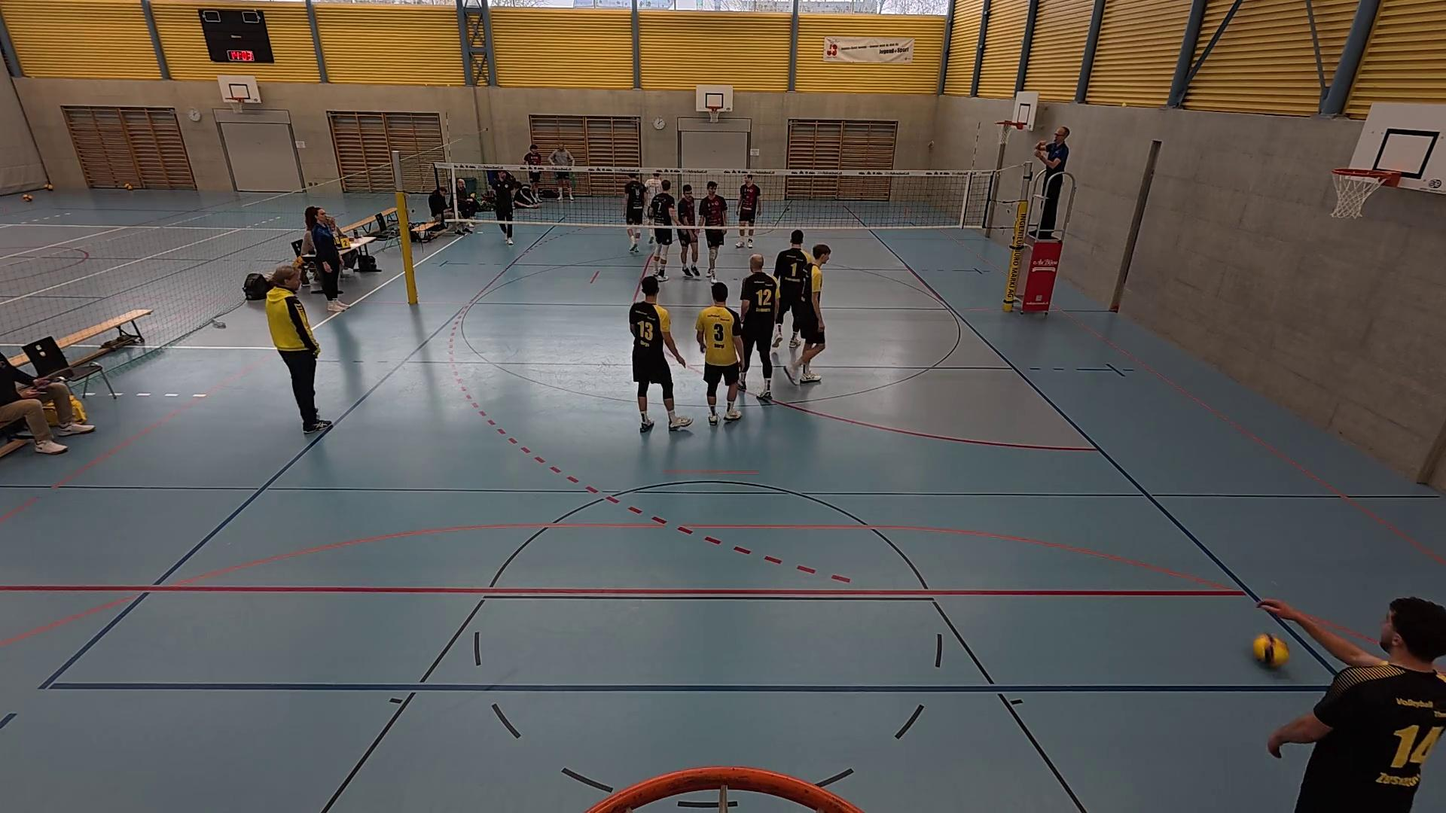Player: (1258, 596, 1445, 811), (629, 276, 693, 433), (695, 283, 747, 425), (736, 253, 782, 402), (770, 230, 817, 370), (783, 239, 827, 385), (648, 178, 683, 279), (697, 181, 731, 278), (672, 180, 703, 279), (621, 170, 650, 253), (735, 172, 762, 249), (640, 171, 666, 245)
ball: (1252, 632, 1289, 668)
